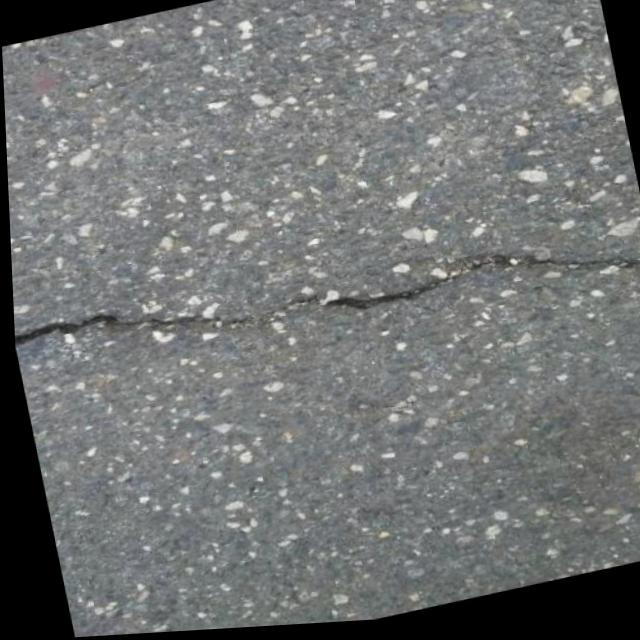Crack: (8, 191, 640, 409)
